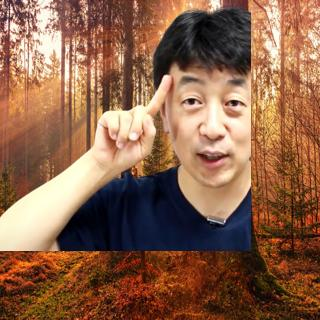IRRITATED: (89, 71, 174, 176)
